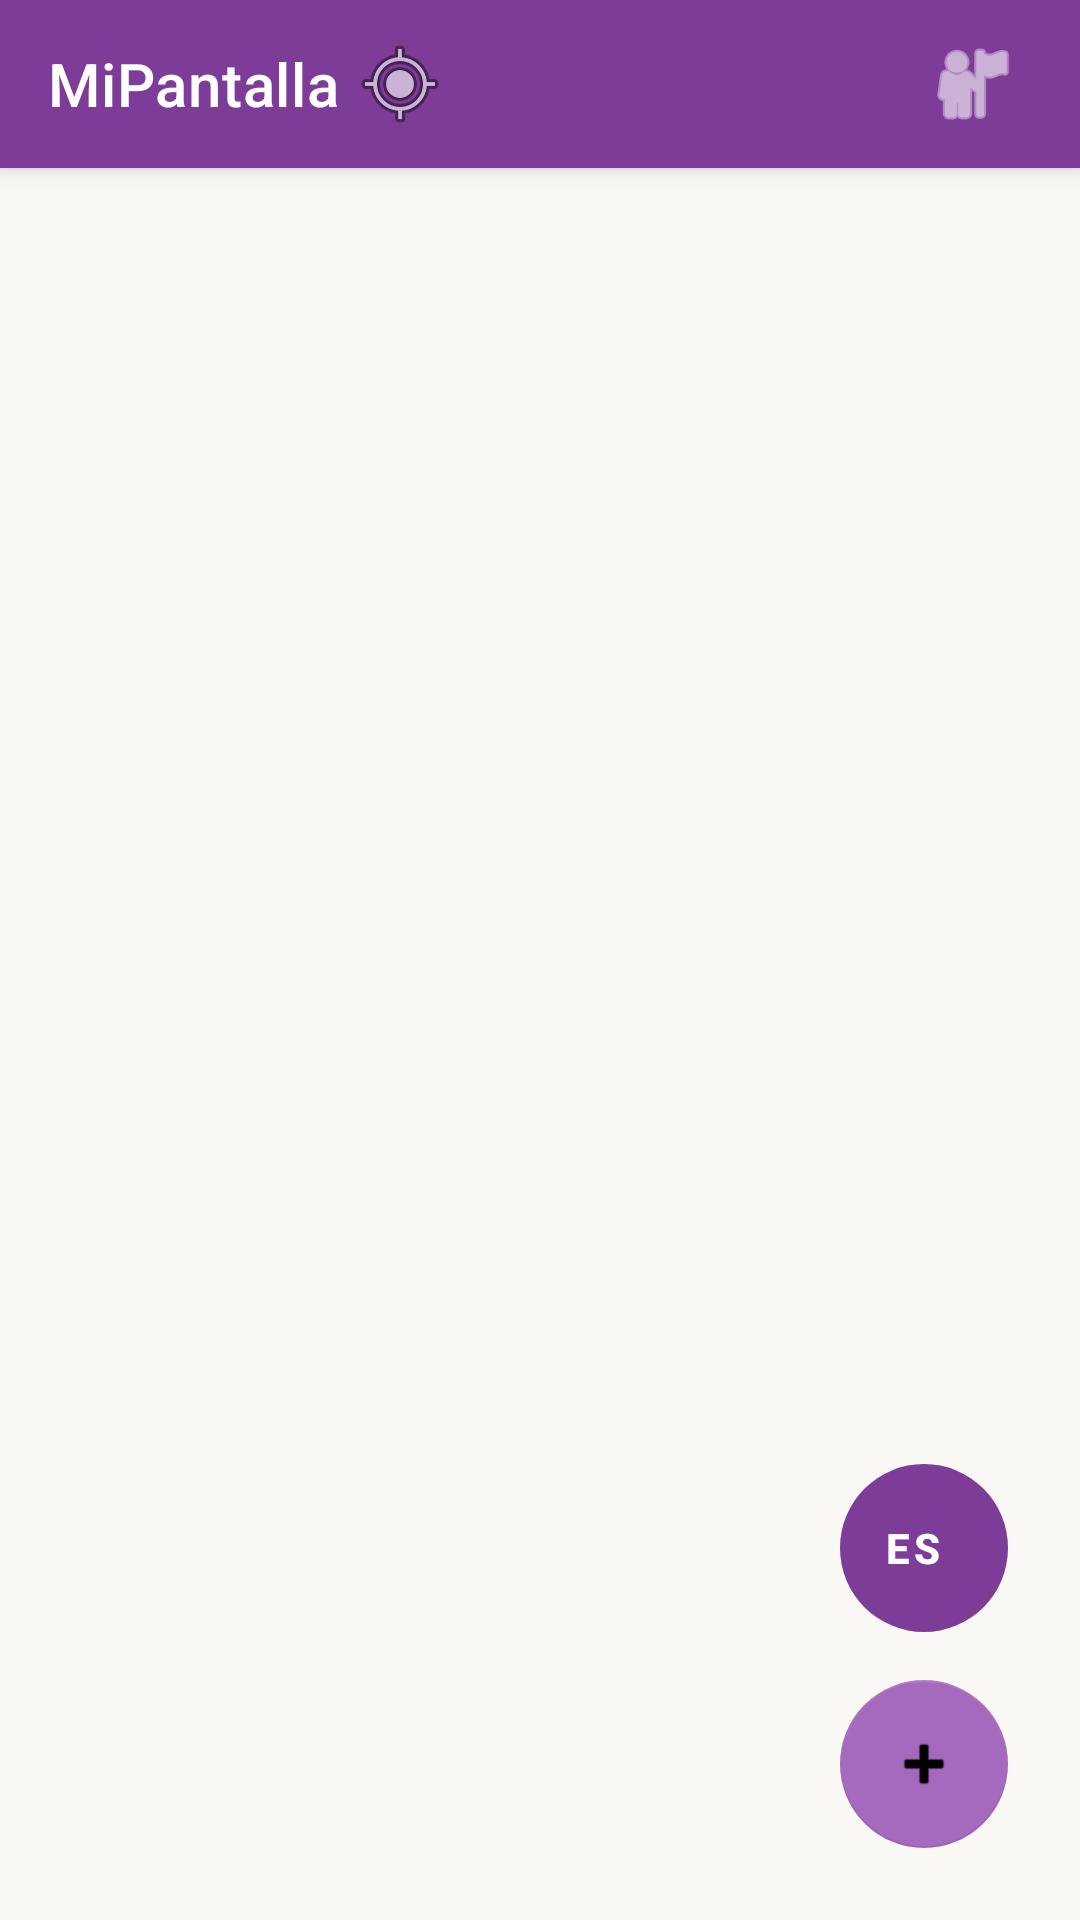

Icons on this 1080x1920 Android screen, each with its box as (x1, y1, x2, y2):
add: (840, 1680, 1008, 1848)
mylocation: (362, 46, 438, 122)
myplaces: (937, 48, 1009, 120)
